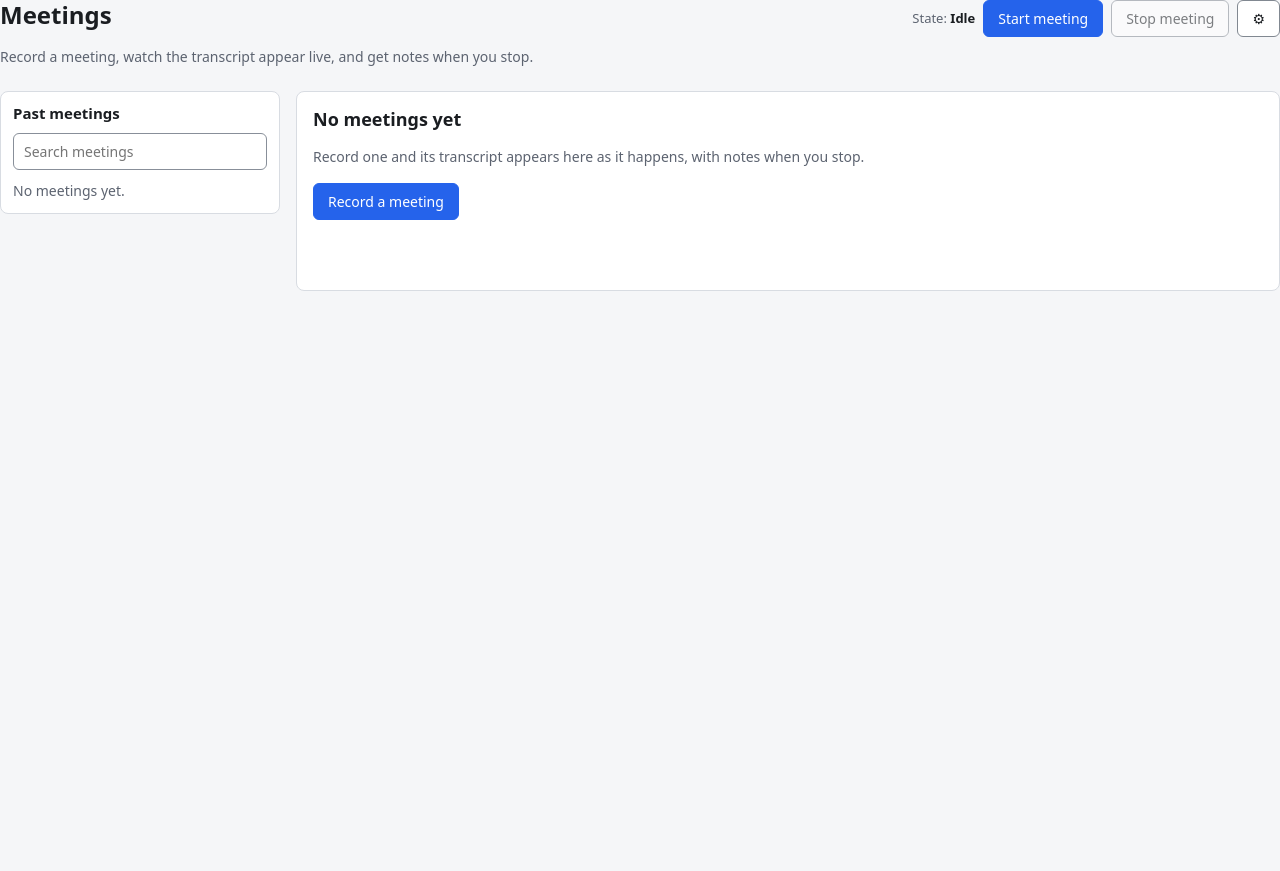
Test: MeetingsPage › keeps the real error when a test capture fails after starting
Click the button named "Meeting settings". click: (1259, 18)
box: [1237,0,1279,37]
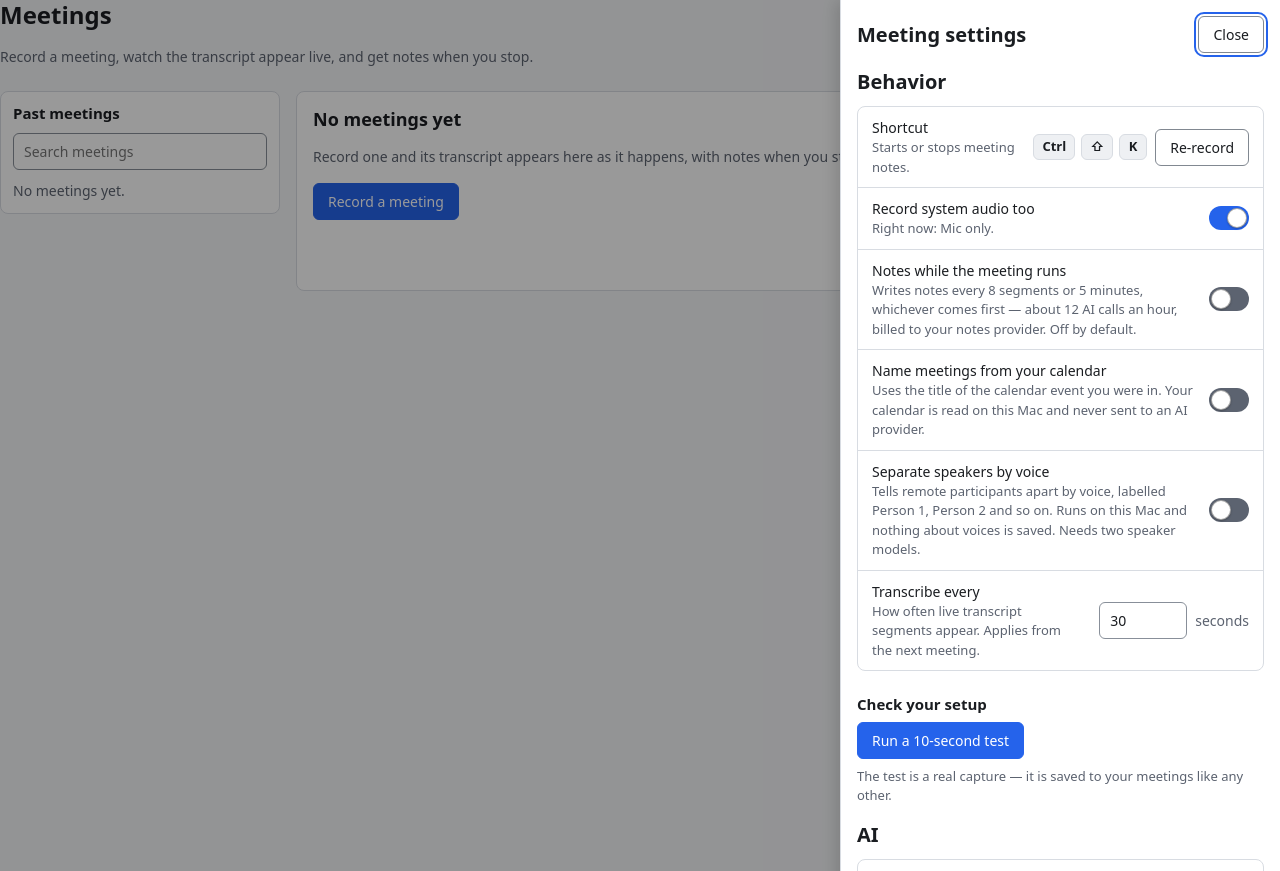
Click the button "Run a 10-second test". click: (941, 740)
box: [857,722,1024,759]
Wait 10000 ms
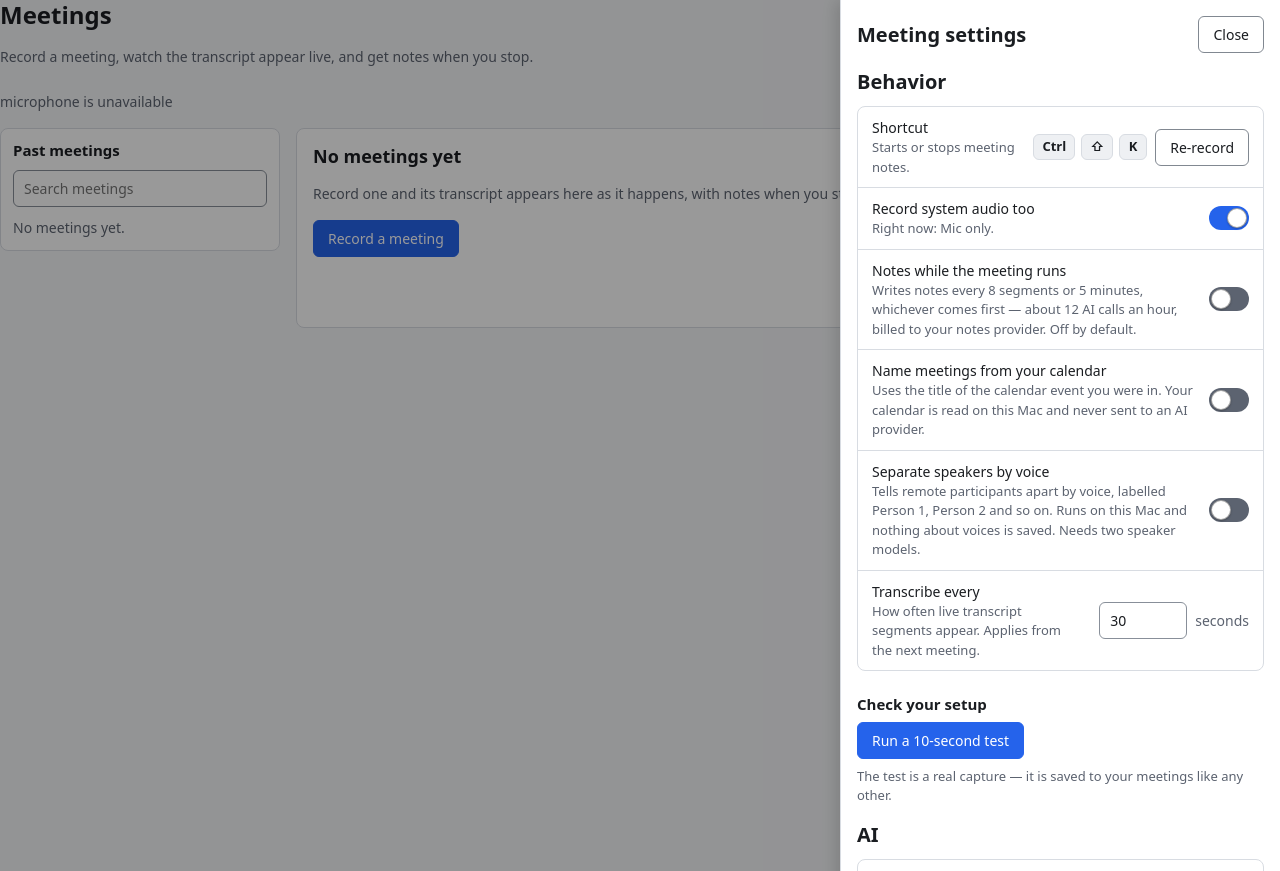
Now the button "Run a 10-second test" is enabled, box [857,722,1024,759]
Now the text "microphone is unavailable" is shown, box [0,92,173,111]
